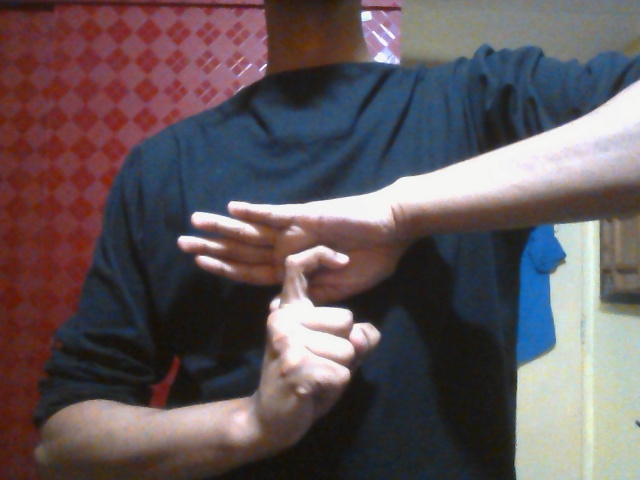R: (174, 198, 404, 431)
